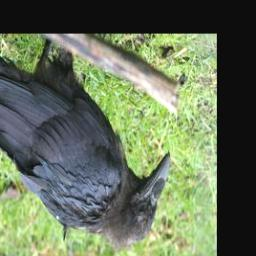Crow: (0, 36, 172, 251)
